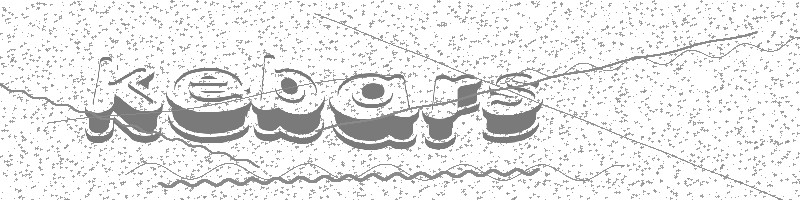a: (328, 69, 421, 151)
b: (252, 52, 325, 144)
e: (166, 63, 251, 145)
k: (84, 49, 165, 142)
r: (422, 71, 482, 153)
s: (484, 67, 545, 145)
